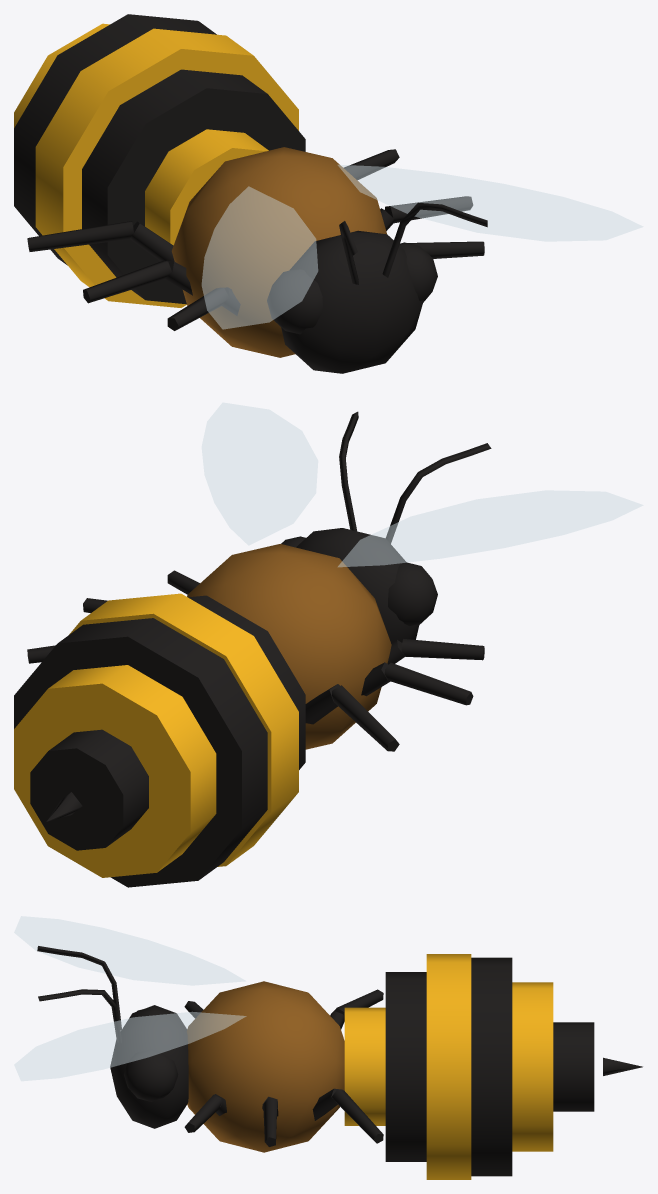
Rendered from bee.glb.
3 renders of one model, top to bottom at view 1: azimuth 30°, elevation 25°; view 2: azimuth 150°, elevation 25°; view 3: azimuth 270°, elevation 25°, orthographic. The views are drawn at different scales.
Parts seen in each view (by area): view 1: bee; view 2: bee; view 3: bee.
Part boxes in pixels (<box>): bee: <box>14,14,643,373</box>; bee: <box>14,402,643,887</box>; bee: <box>14,916,642,1179</box>.
Bounding box in the file's own units: 1.14 × 0.6726 × 1.84.
